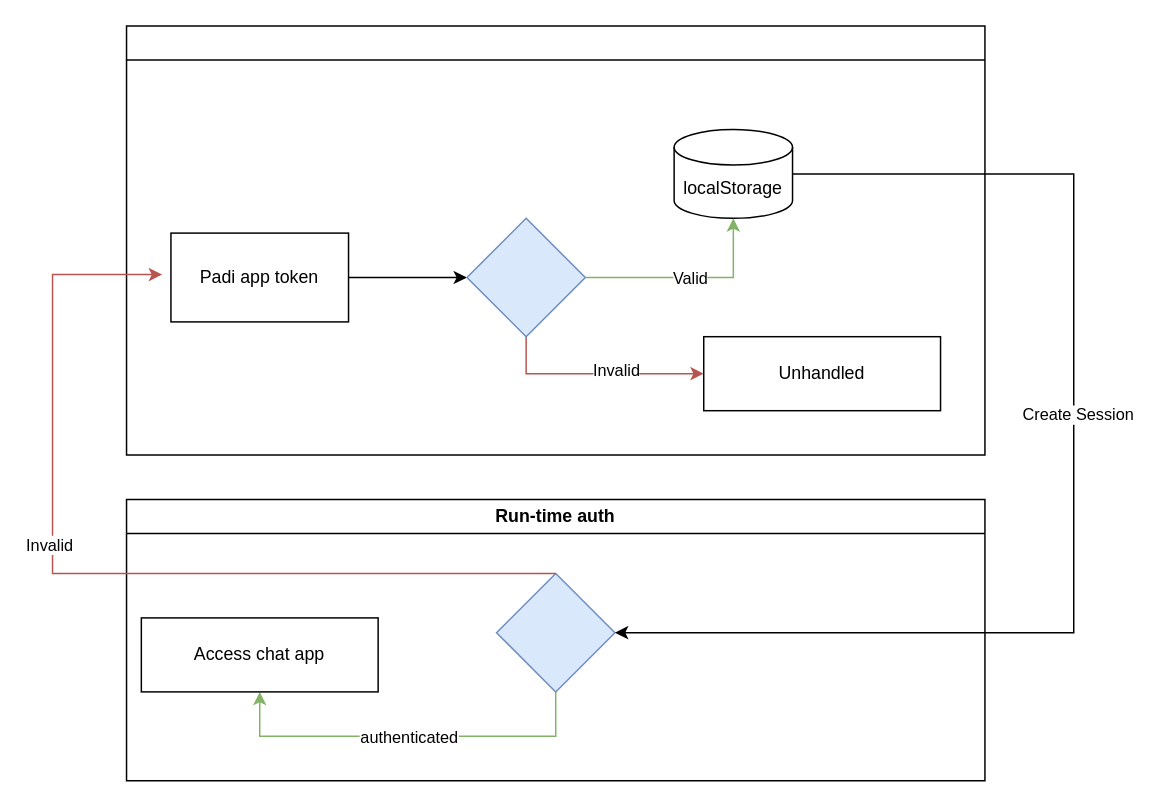
Some shapes in this 1159 by 807 pixel diagram are drawn without their labels. Here are the shapes that lost their labels. From the top down, the box of each, then its label:
(125, 24, 985, 455): Signin
(465, 217, 585, 337): Validate token
(495, 572, 615, 692): Listen auth state
